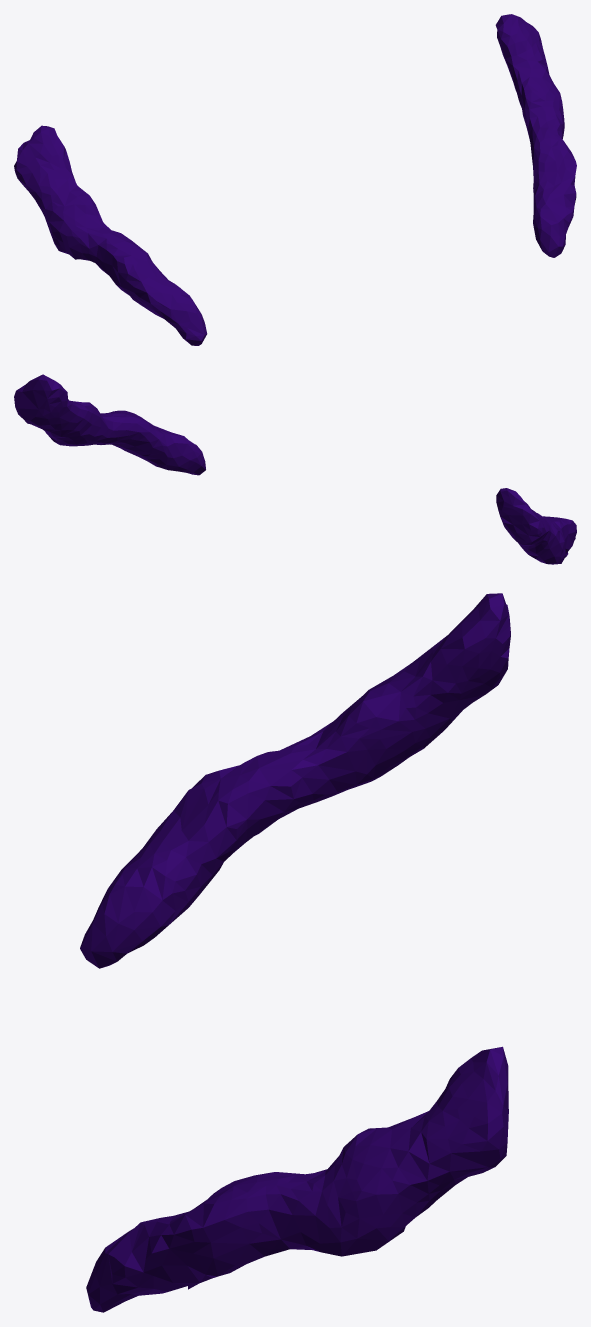
Rendered from 38-IPa-intraparietal sulcus associated area in the superior temporal sulcus-('0.2275', '0.0000', '0.4980').obj.
3 views of the same model, one above another, from view 1: azimuth 30°, elevation 25°; view 2: azimuth 150°, elevation 25°; view 3: azimuth 270°, elevation 25° (orthographic). The views are drawn at different scales.
Size of the model in its own units: 256 by 74.45 by 90.82.
